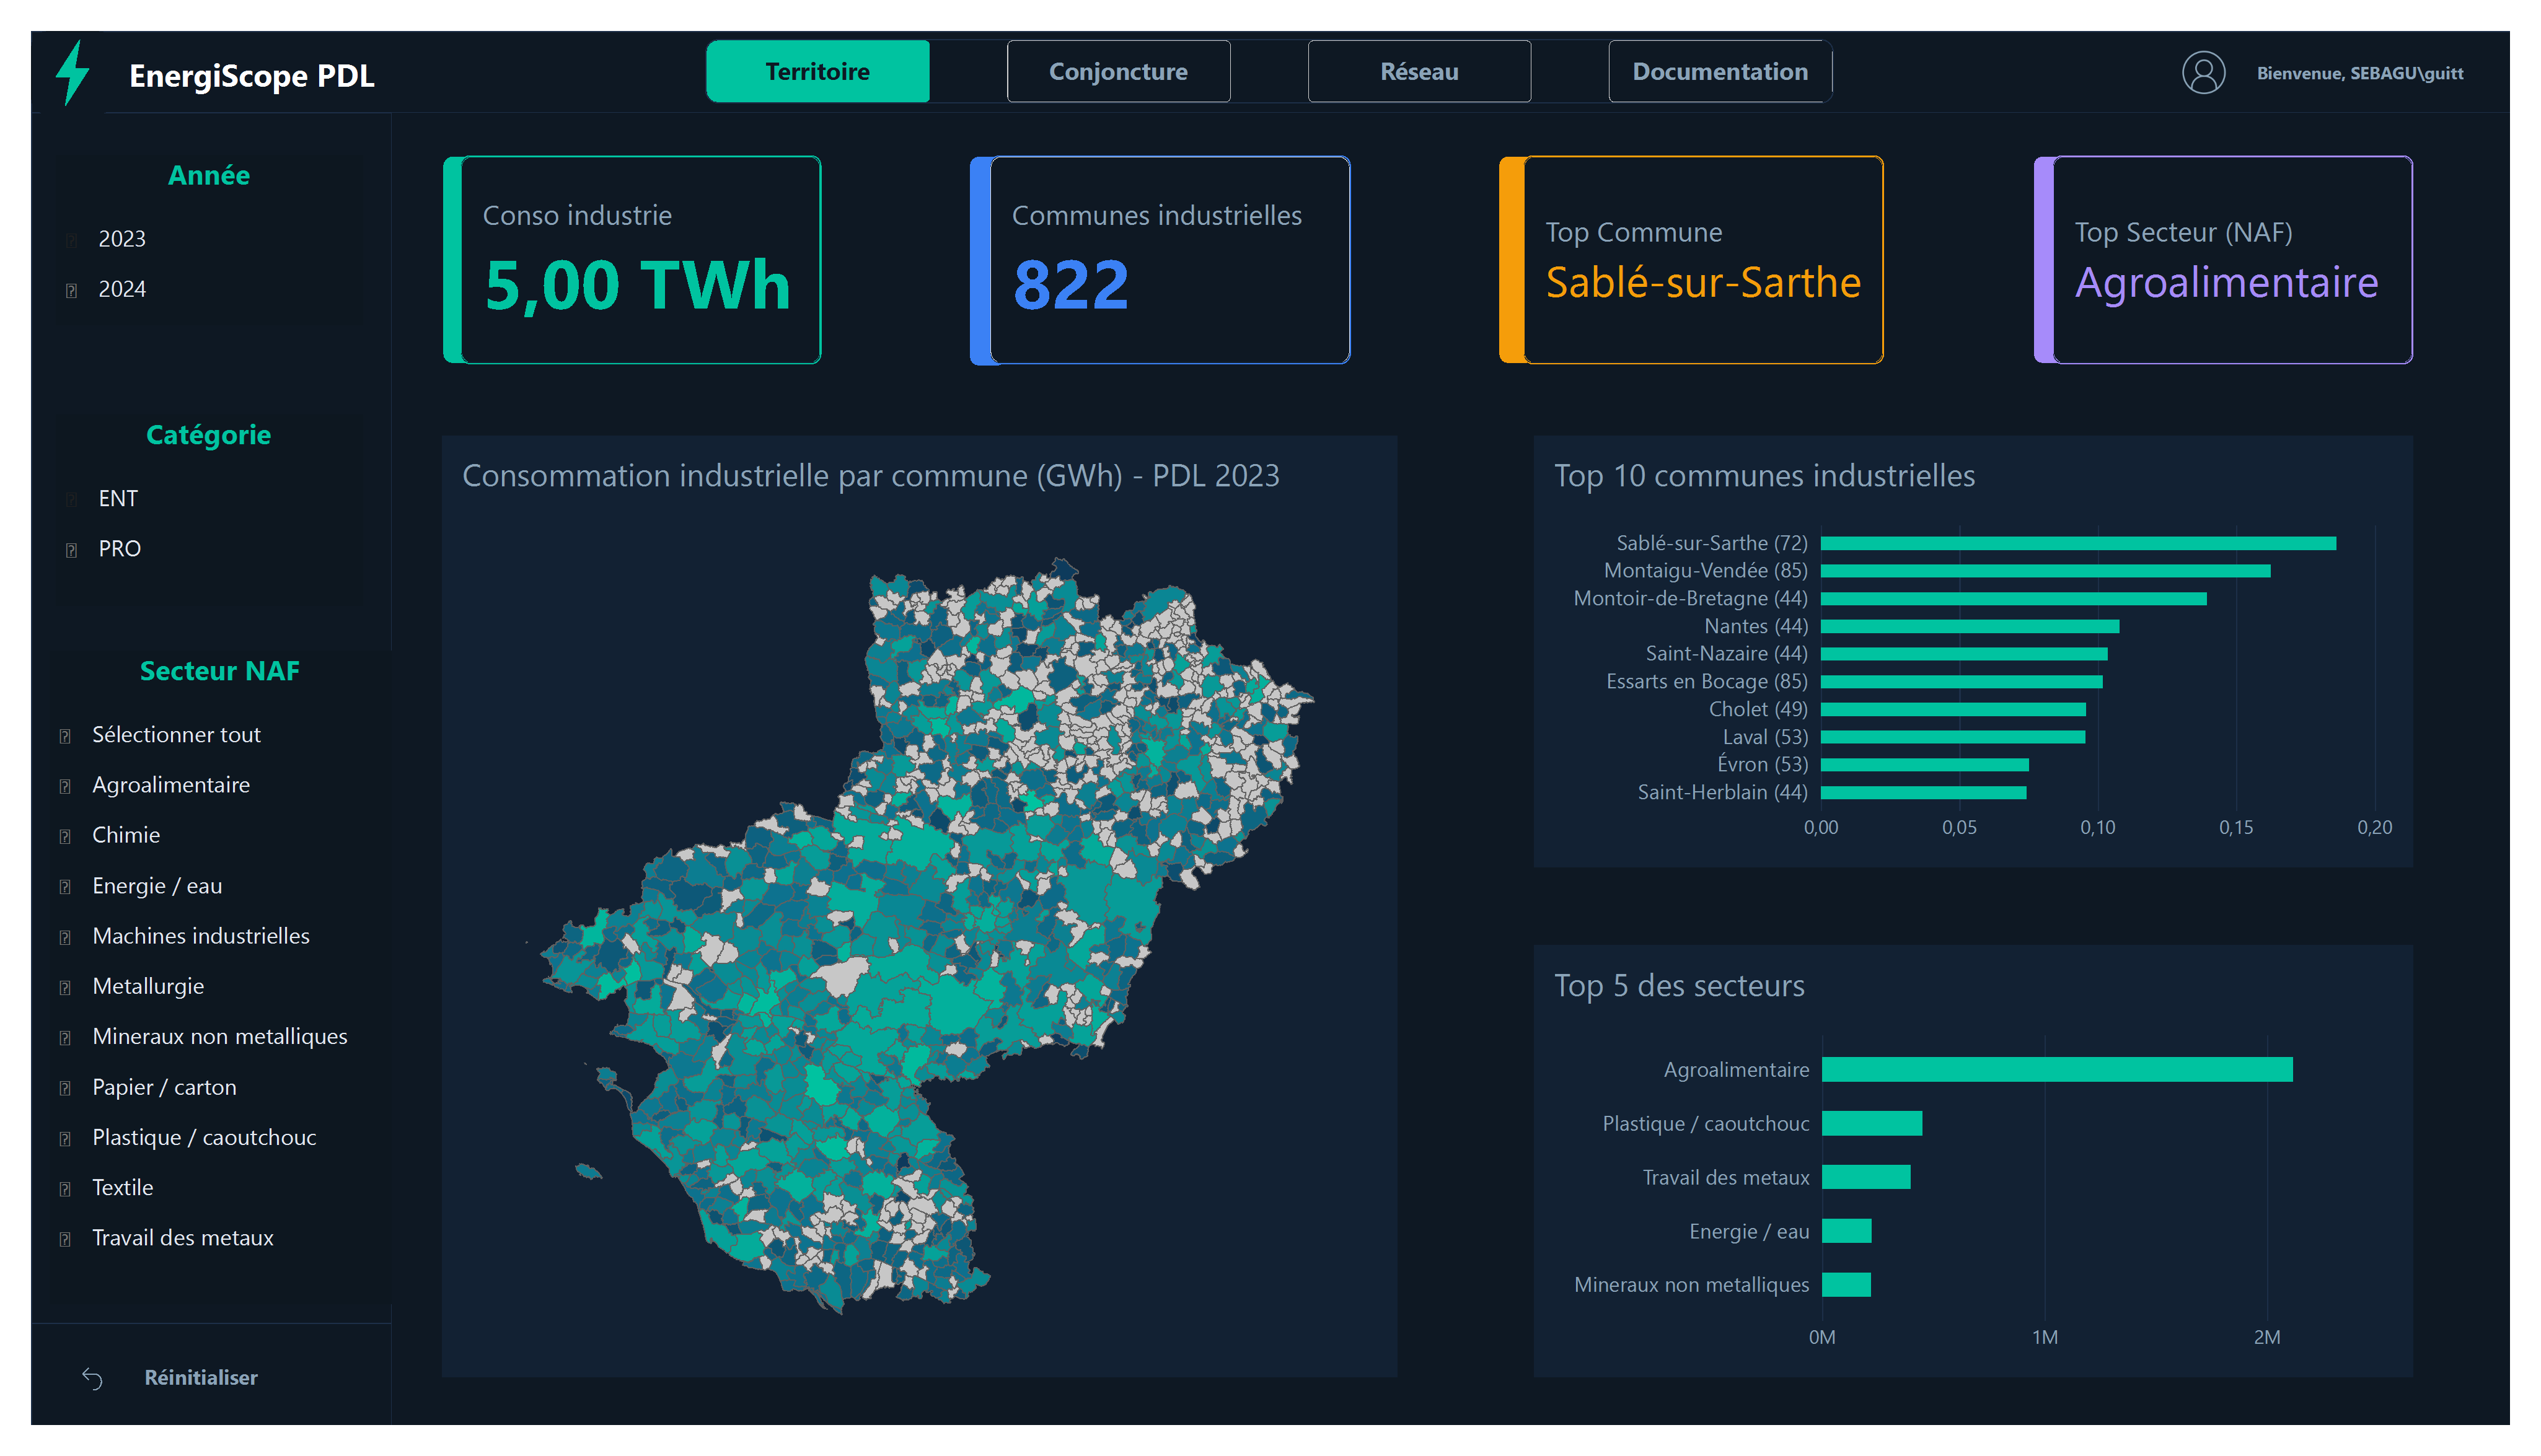

What the dashboard file says about the page in this screenshot:
{"tool":"powerbi","page":{"name":"Territoire","canvas":[1920,1080],"ordinal":0},"visuals":[{"type":"shape","box":[0,0,1920.8,63.2],"z":0},{"type":"shape","box":[0,63.1,278.5,937.7],"z":1000},{"type":"shape","box":[0,1000.9,278.5,79.8],"z":2000},{"type":"actionButton","box":[37.1,1010.1,189.4,66.8],"z":3000},{"type":"cardVisual","fields":{"Data":["mart_conso_industrielle.Message_bienvenue"]},"box":[1708,3.3,200,56.7],"z":4000},{"type":"image","box":[1660,6.7,45.6,50],"z":5000},{"type":"slicer","title":"Année","fields":{"Values":["mart_conso_industrielle.annee"]},"box":[18.8,111.1,237.8,132.3],"z":6000},{"type":"shapeMap","title":"Consommation industrielle par commune (GWh) - PDL 2023","fields":{"Category":["mart_conso_industrielle.code_commune"],"Value":["mart_conso_industrielle.Conso Log"]},"box":[317.5,312.5,740.4,730.8],"z":7000},{"type":"barChart","title":"Top 10 communes industrielles","fields":{"Category":["mart_conso_industrielle.Commune PDL"],"Y":["mart_conso_industrielle.Conso TWh"]},"box":[1164.3,312.6,680.9,335.7],"z":8000},{"type":"slicer","title":"Catégorie","fields":{"Values":["mart_conso_industrielle.categorie_consommation"]},"box":[18.8,297.3,237.8,147.7],"z":9000},{"type":"slicer","title":"Secteur NAF","fields":{"Values":["ref_naf.libelle_naf"]},"box":[13.7,480.2,264.9,505.8],"z":10000},{"type":"textbox","box":[64,0,214,64],"z":11000},{"type":"pageNavigator","box":[619.5,5.8,700.1,49.9],"z":12000},{"type":"shape","box":[318.7,96.5,30,160],"z":13000},{"type":"barChart","title":"Top 5 des secteurs","fields":{"Category":["ref_naf.libelle_naf"],"Y":["Sum(mart_conso_industrielle.conso_mwh)"]},"box":[1164.3,707.8,680.9,335.7],"z":14000},{"type":"cardVisual","fields":{"Data":["mart_conso_industrielle.Conso TWh"]},"box":[331.8,96.4,280,161.1],"z":15000},{"type":"shape","box":[726.7,96.5,28,162],"z":16000},{"type":"cardVisual","fields":{"Data":["mart_conso_industrielle.Nb Communes"]},"box":[742.2,96.4,279.5,161.9],"z":17000},{"type":"shape","box":[1136.7,96.5,27,160],"z":18000},{"type":"cardVisual","fields":{"Data":["mart_conso_industrielle.Top Commune"]},"box":[1154.7,96.4,280,161.1],"z":19000},{"type":"shape","box":[1551.3,96.5,27,160],"z":20000},{"type":"cardVisual","fields":{"Data":["mart_conso_industrielle.Top Secteur NAF"]},"box":[1565.2,96.4,280,161.1],"z":21000},{"type":"image","box":[0,0,64,64],"z":22000}]}

Visuals, with their boxes on the page's 1920x1080 design canvas (x1, y1, x2, y2). These are canvas units, not pixel positions in the 2541x1456 screenshot, which may show the page scaled, cropped or inside an application window:
shape: 0:0:1921:63
shape: 0:63:278:1001
shape: 0:1001:278:1081
actionButton: 37:1010:226:1077
cardVisual - mart_conso_industrielle.Message_bienvenue: 1708:3:1908:60
image: 1660:7:1706:57
"Année" slicer: 19:111:257:243
"Consommation industrielle par commune (GWh) - PDL 2023" shapeMap: 318:312:1058:1043
"Top 10 communes industrielles" barChart: 1164:313:1845:648
"Catégorie" slicer: 19:297:257:445
"Secteur NAF" slicer: 14:480:279:986
textbox: 64:0:278:64
pageNavigator: 620:6:1320:56
shape: 319:96:349:256
"Top 5 des secteurs" barChart: 1164:708:1845:1044
cardVisual - mart_conso_industrielle.Conso TWh: 332:96:612:258
shape: 727:96:755:258
cardVisual - mart_conso_industrielle.Nb Communes: 742:96:1022:258
shape: 1137:96:1164:256
cardVisual - mart_conso_industrielle.Top Commune: 1155:96:1435:258
shape: 1551:96:1578:256
cardVisual - mart_conso_industrielle.Top Secteur NAF: 1565:96:1845:258
image: 0:0:64:64
